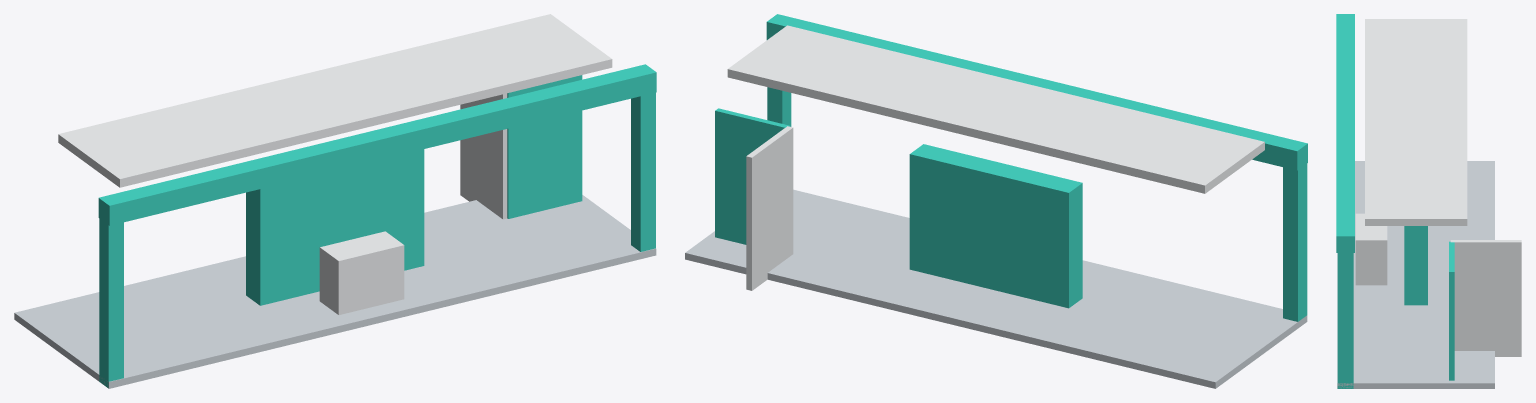
3 views of the same model, side by side, from view 1: azimuth 30°, elevation 25°; view 2: azimuth 150°, elevation 25°; view 3: azimuth 270°, elevation 25° (orthographic). The views are drawn at different scales.
Visible parts, largest first — view 1: Exhibition Booth Concept; view 2: Exhibition Booth Concept; view 3: Exhibition Booth Concept.
Boxes of the visible parts, x1,y1,x2,y2 form: Exhibition Booth Concept: (14,14,656,388); Exhibition Booth Concept: (685,14,1307,388); Exhibition Booth Concept: (1336,14,1521,388).
Bounding box in the file's own units: 10 × 3.34 × 3.52.
